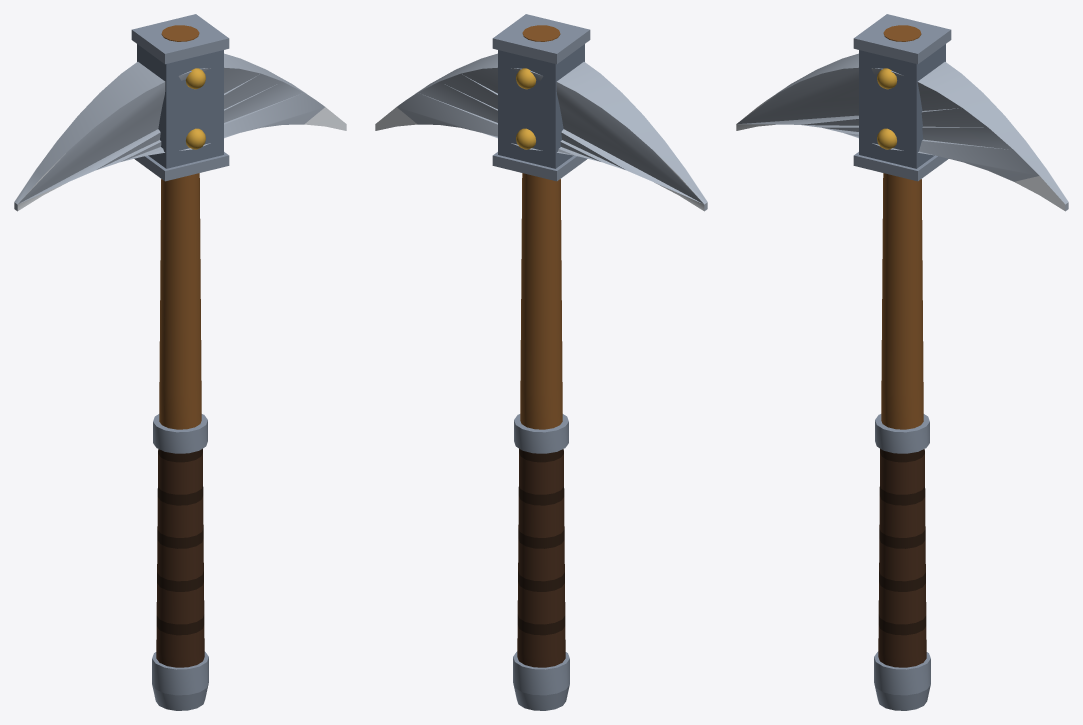
3 renders of one model, left to right at view 1: azimuth 30°, elevation 25°; view 2: azimuth 150°, elevation 25°; view 3: azimuth 330°, elevation 25°, orthographic.
Parts seen in each view (by area): view 1: body; view 2: body; view 3: body.
Part boxes in pixels (bbox=[...]): body: bbox=[14, 14, 346, 710]; body: bbox=[375, 14, 707, 710]; body: bbox=[736, 14, 1068, 710].
Size of the model in its own units: 0.4 by 0.775 by 0.0844.
1 material, 1 textured.
